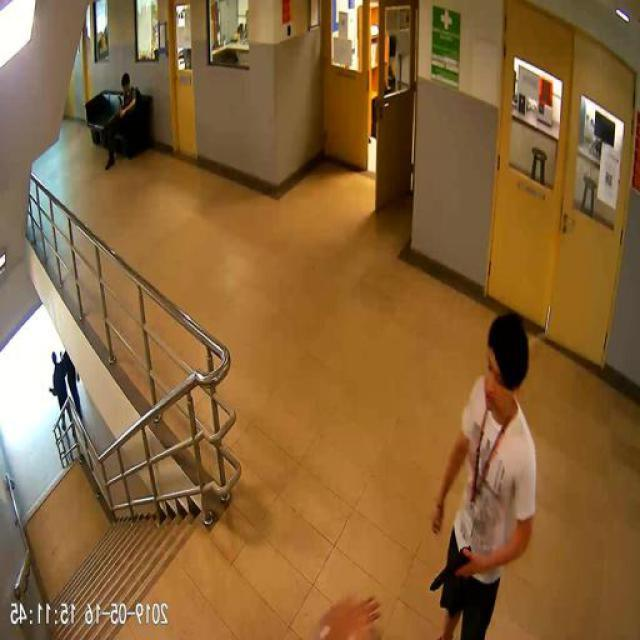weapon: (428, 549, 473, 592)
